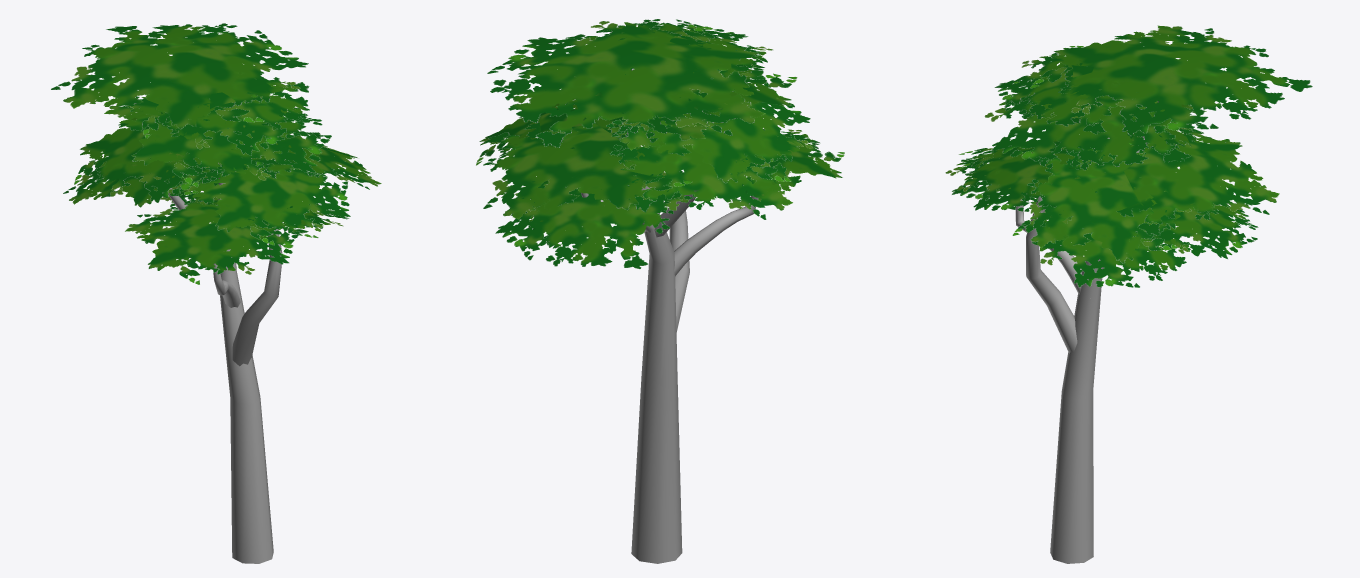
File: prop_tree3 1.fbx
3 views of the same model, side by side, from view 1: azimuth 30°, elevation 25°; view 2: azimuth 150°, elevation 25°; view 3: azimuth 270°, elevation 25° (orthographic). The views are drawn at different scales.
Visible parts, largest first — view 1: leaves_bent24, sweep8, leaves_bent27, leaves_bent23, leaves_bent30, leaves_bent25, leaves_bent26, sweep5, leaves_bent28, leaves_bent32, leaves_bent31, sweep6; view 2: leaves_bent24, sweep8, leaves_bent29, leaves_bent33, leaves_bent26, leaves_bent32, leaves_bent30, leaves_bent25, leaves_bent23, leaves_bent28, sweep6, sweep5; view 3: leaves_bent24, sweep8, leaves_bent28, leaves_bent29, leaves_bent30, leaves_bent31, leaves_bent25, leaves_bent27, leaves_bent33, sweep5, leaves_bent23, sweep6.
Part boxes in pixels (left/top/right/bottom): leaves_bent24: left=51, top=23, right=308, bottom=129; sweep8: left=218, top=163, right=273, bottom=563; leaves_bent27: left=177, top=159, right=350, bottom=245; leaves_bent23: left=125, top=199, right=300, bottom=284; leaves_bent30: left=104, top=96, right=331, bottom=187; leaves_bent25: left=125, top=71, right=310, bottom=155; leaves_bent26: left=74, top=112, right=268, bottom=202; sweep5: left=232, top=229, right=282, bottom=366; leaves_bent28: left=241, top=143, right=381, bottom=189; leaves_bent32: left=63, top=149, right=232, bottom=207; leaves_bent31: left=173, top=192, right=349, bottom=238; sweep6: left=213, top=263, right=240, bottom=307; leaves_bent24: left=487, top=21, right=765, bottom=147; sweep8: left=626, top=68, right=682, bottom=563; leaves_bent29: left=483, top=117, right=691, bottom=219; leaves_bent33: left=495, top=175, right=696, bottom=269; leaves_bent26: left=606, top=82, right=812, bottom=184; leaves_bent32: left=609, top=125, right=799, bottom=219; leaves_bent30: left=545, top=63, right=797, bottom=142; leaves_bent25: left=565, top=19, right=780, bottom=91; leaves_bent23: left=682, top=129, right=844, bottom=201; leaves_bent28: left=476, top=99, right=626, bottom=165; sweep6: left=674, top=196, right=757, bottom=276; sweep5: left=668, top=207, right=689, bottom=331; leaves_bent24: left=1030, top=25, right=1312, bottom=135; sweep8: left=1050, top=101, right=1158, bottom=563; leaves_bent28: left=1018, top=147, right=1191, bottom=263; leaves_bent29: left=1074, top=122, right=1279, bottom=235; leaves_bent30: left=984, top=78, right=1192, bottom=170; leaves_bent31: left=1012, top=192, right=1206, bottom=287; leaves_bent25: left=994, top=45, right=1142, bottom=134; leaves_bent27: left=957, top=139, right=1081, bottom=211; leaves_bent33: left=1129, top=199, right=1258, bottom=259; sweep5: left=1026, top=196, right=1077, bottom=353; leaves_bent23: left=945, top=139, right=1080, bottom=204; sweep6: left=1015, top=199, right=1090, bottom=298.
Bounding box in the file's own units: 6.24 × 8.71 × 6.93.
